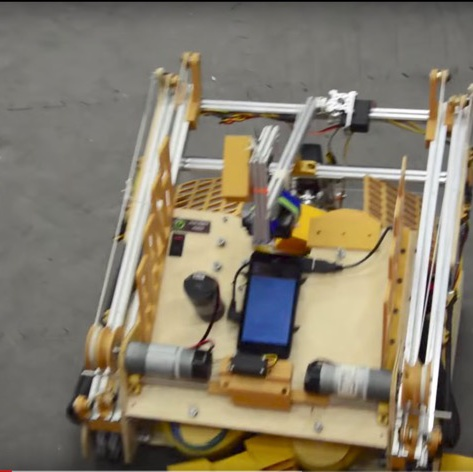robot: (59, 44, 473, 472)
